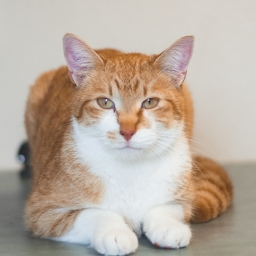cat: (24, 30, 242, 252)
